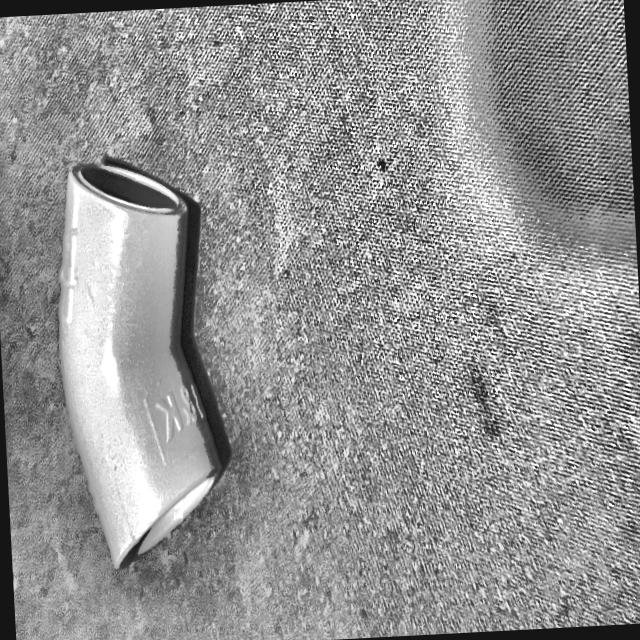ELBOW45: (59, 158, 224, 569)
